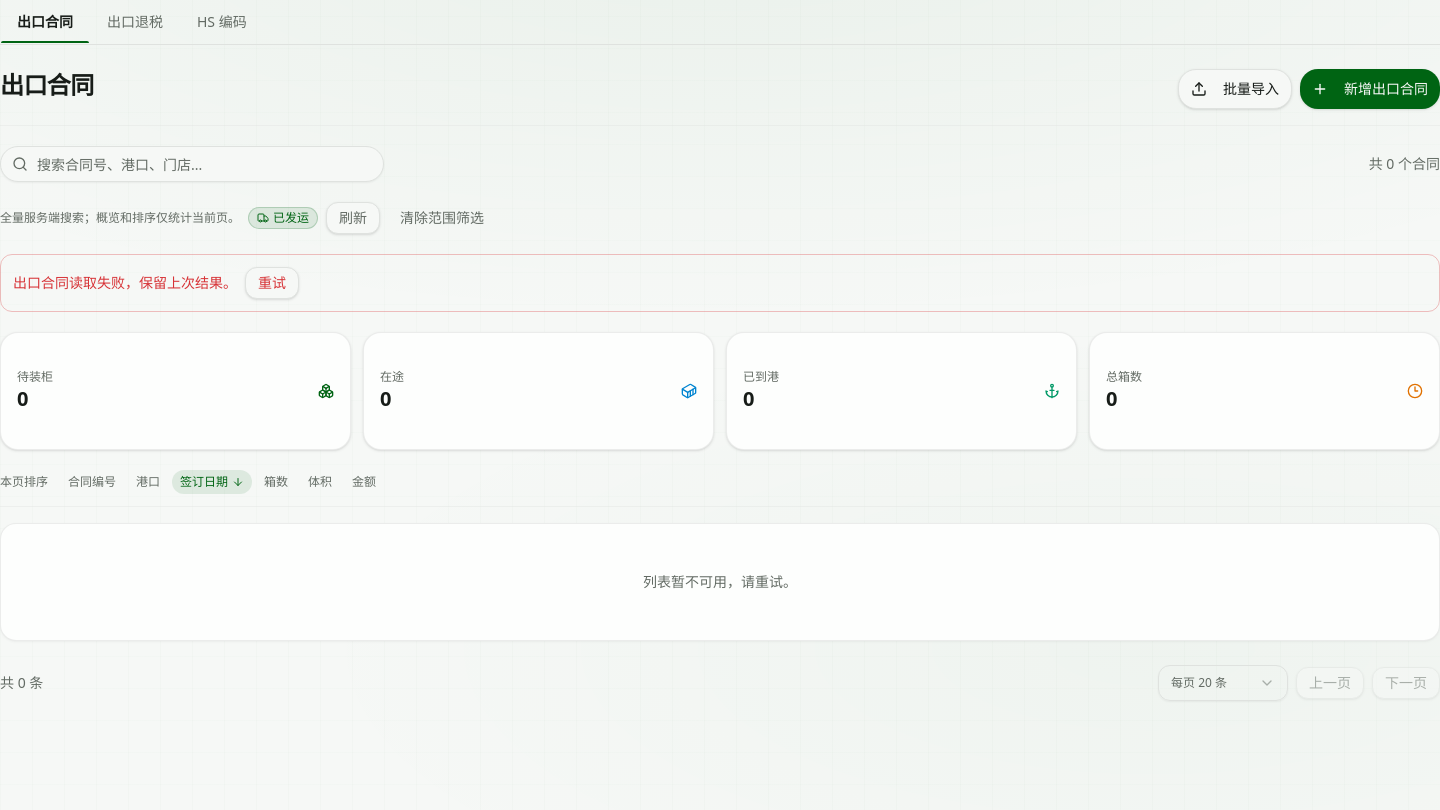
Test: SalesPage 交互逻辑 › 加载失败不显示正常空态；重试保留SHIPPED范围
The image size is (1440, 810).
Expected: the message shows "出口合同读取失败", [13,273,237,292]
Expected: the text "暂无出口合同" is not shown
Click the button "重试" at (272, 283), box [245,267,299,299]
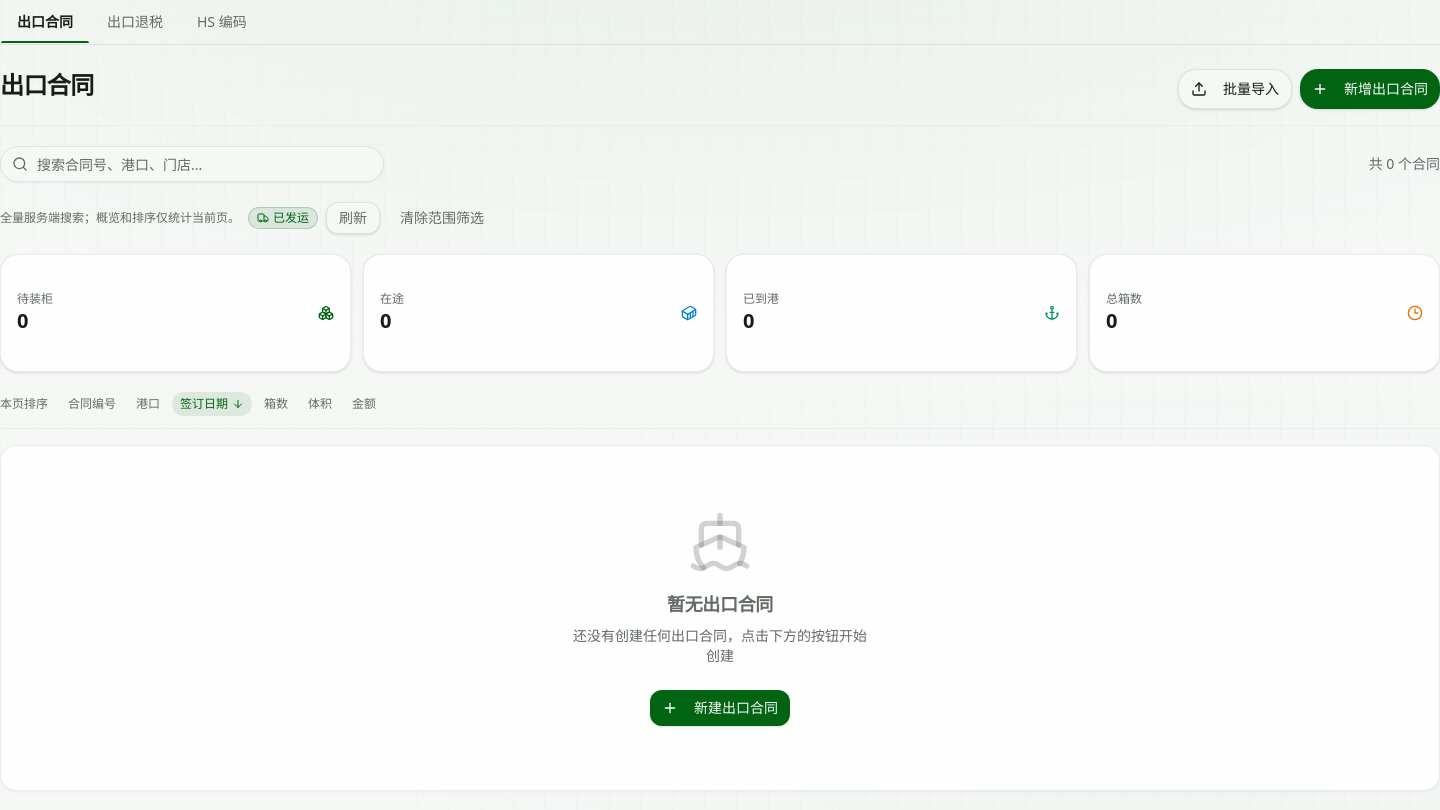
Now the text "暂无出口合同" is shown 2 times
